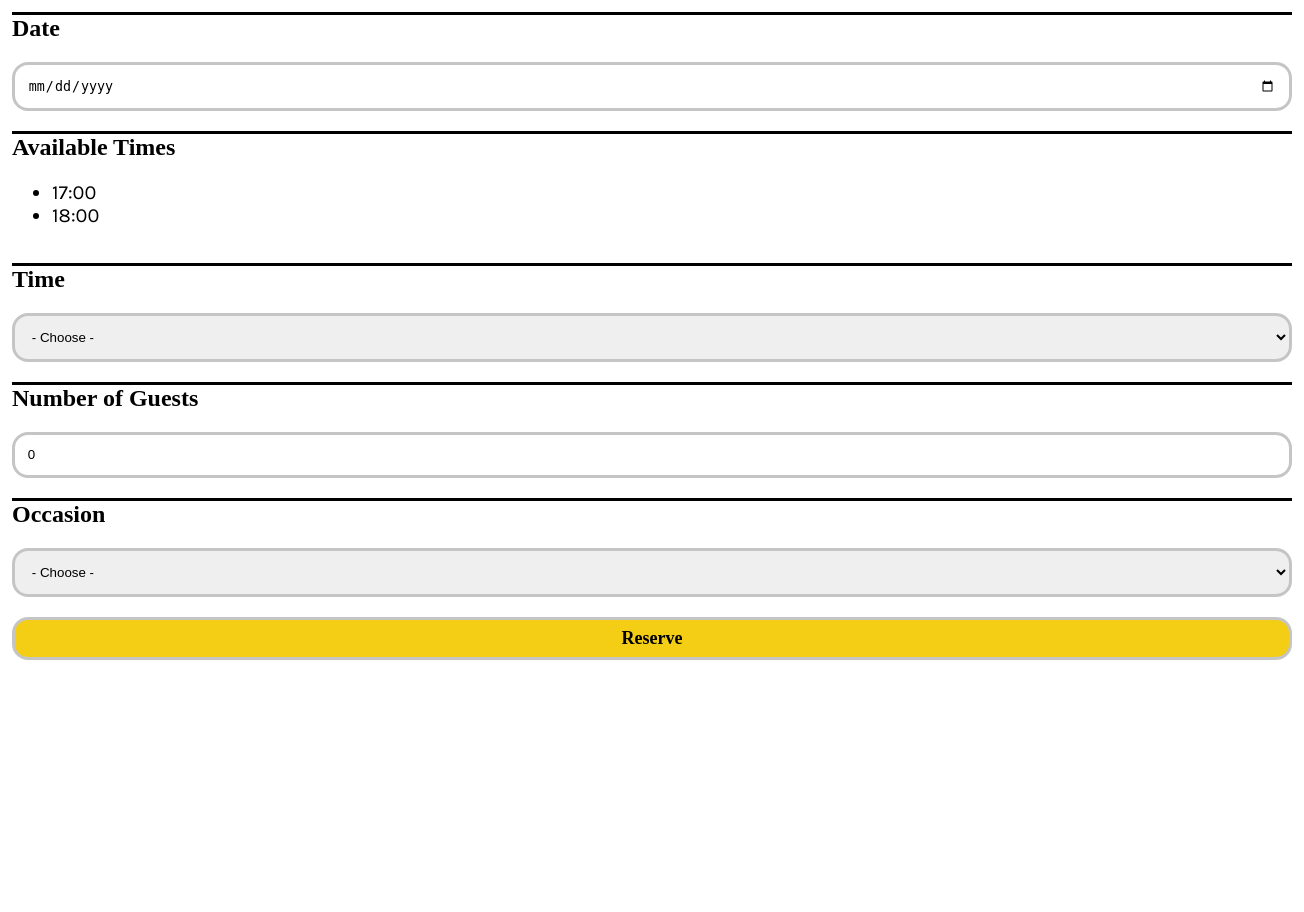
it: Validation works correctly for invalid input
Click the button "Reserve" at coordinates (652, 638), box x1=12 y1=617 x2=1292 y2=660
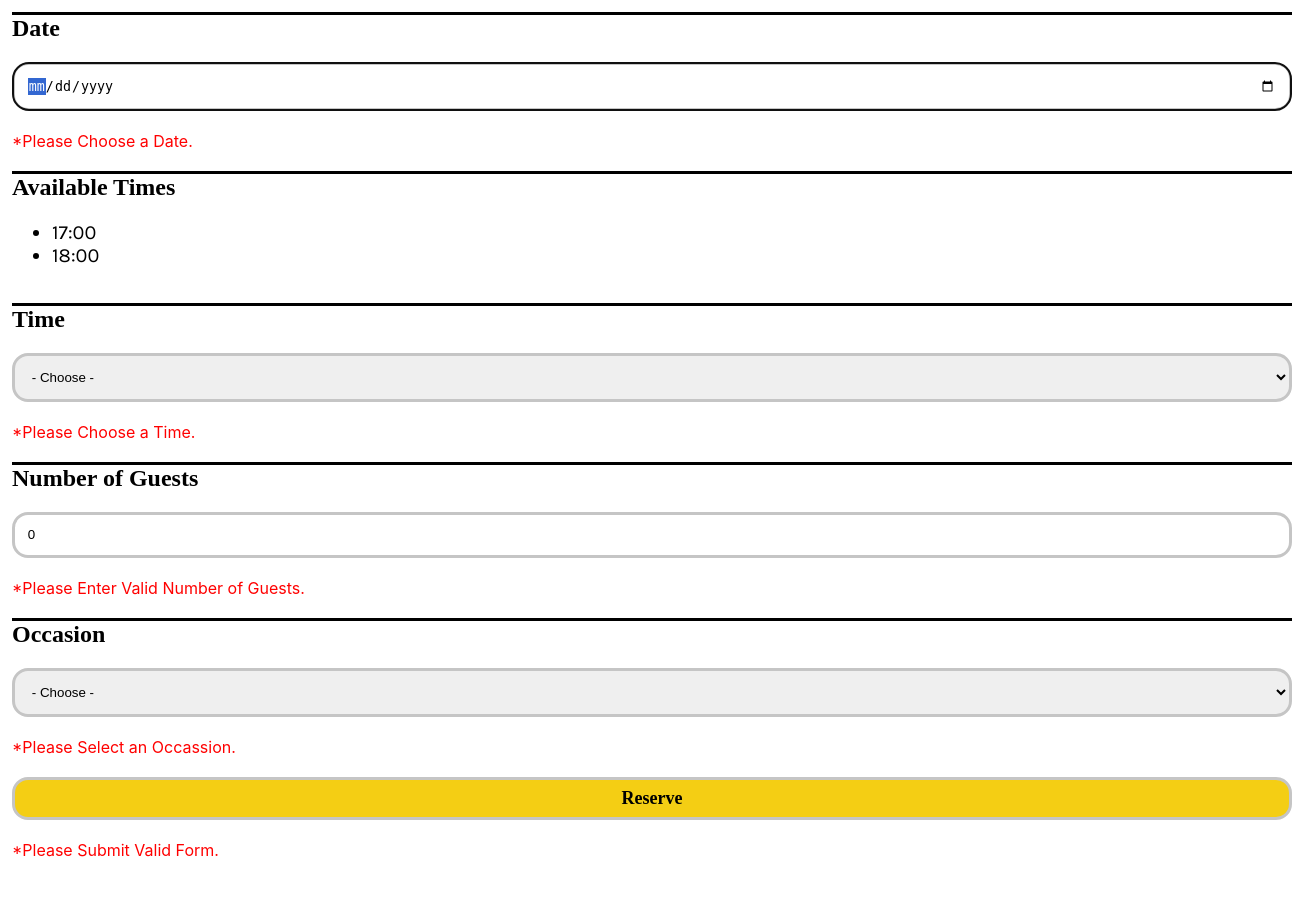
Result: the text "*Please Choose a Date." is shown at x1=12 y1=131 x2=193 y2=151
Result: the text "*Please Choose a Time." is shown at x1=12 y1=422 x2=195 y2=442
Result: the text "*Please Enter Valid Number of Guests." is shown at x1=12 y1=578 x2=305 y2=598
